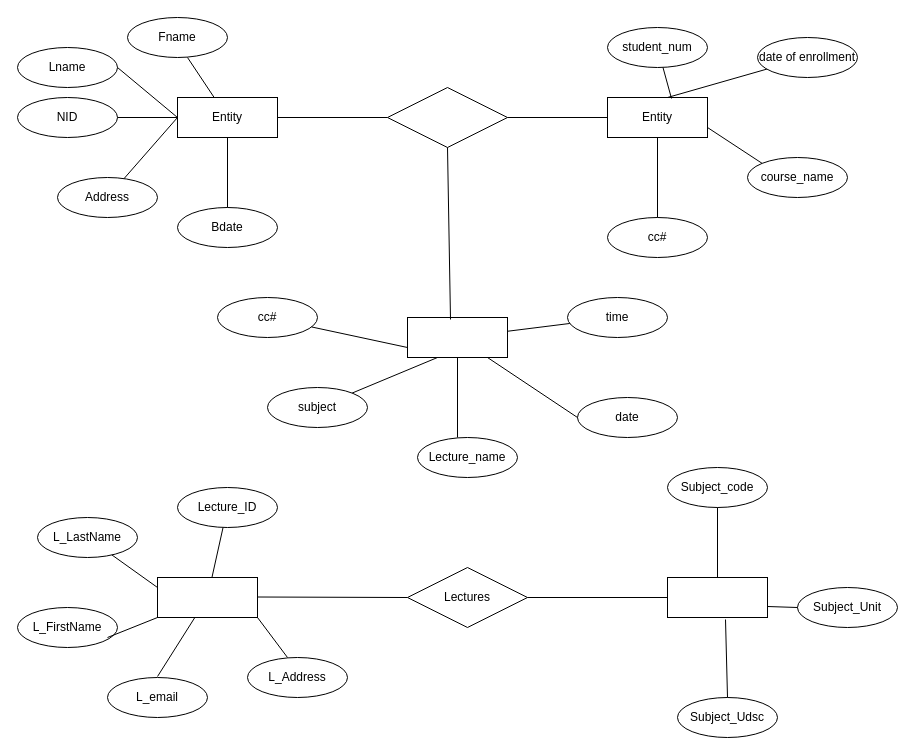
The diagram is 915 pixels wide and 755 high, and some of its shapes have lost their labels. The centre of each missing label's shape, as x and y in pixels:
"Lecture" belongs at point 457,337.
"Lecturer" belongs at point 207,597.
"Relationship" belongs at point 447,117.
"Subjects" belongs at point 717,597.
